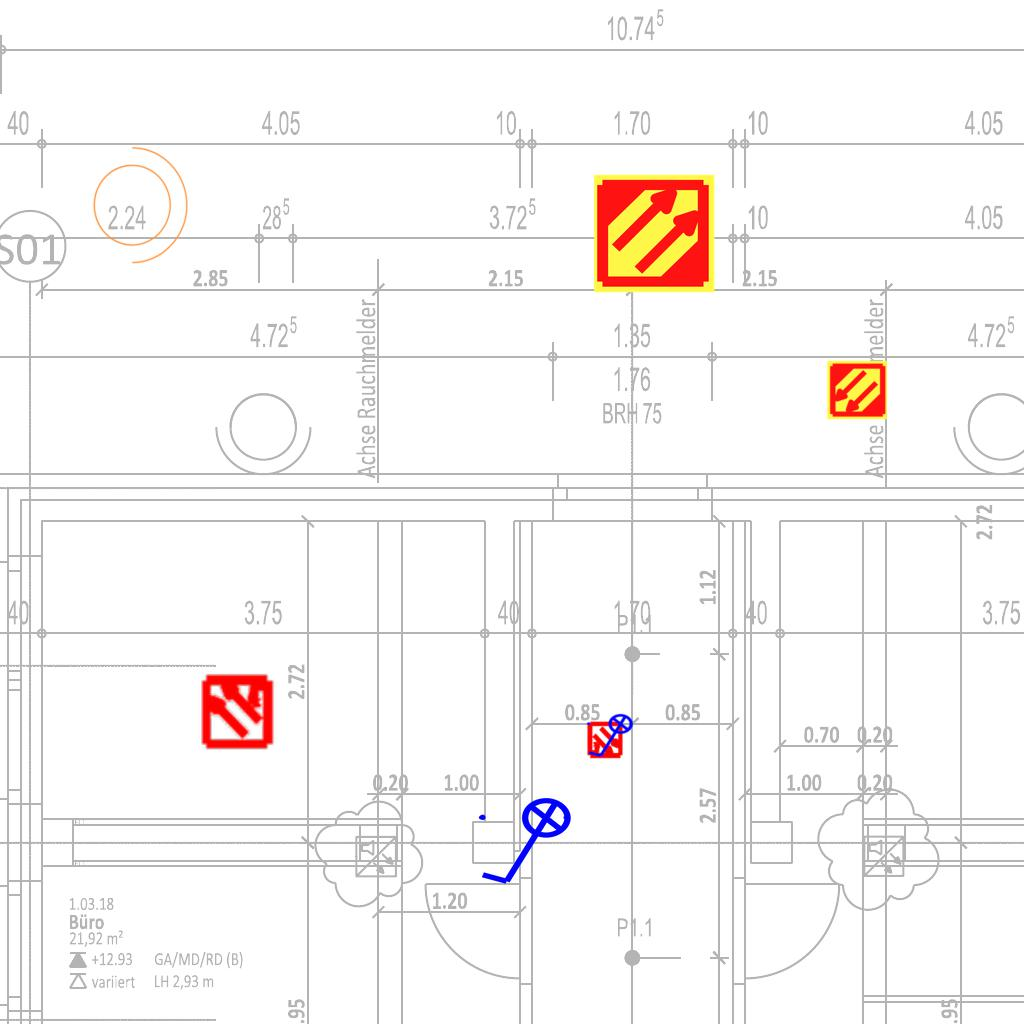ASR_Ansaugrauchmelder: (592, 171, 717, 296), (826, 359, 888, 421)
Ausschalter_beleuchtet: (473, 796, 585, 892), (584, 713, 640, 761)
OT_Multisensormelder_(Kombination_RMO_WMD): (181, 653, 294, 766), (577, 713, 633, 769)
Scheinwerfer_fuer_Alarmbeleuchtung: (81, 136, 193, 268)
